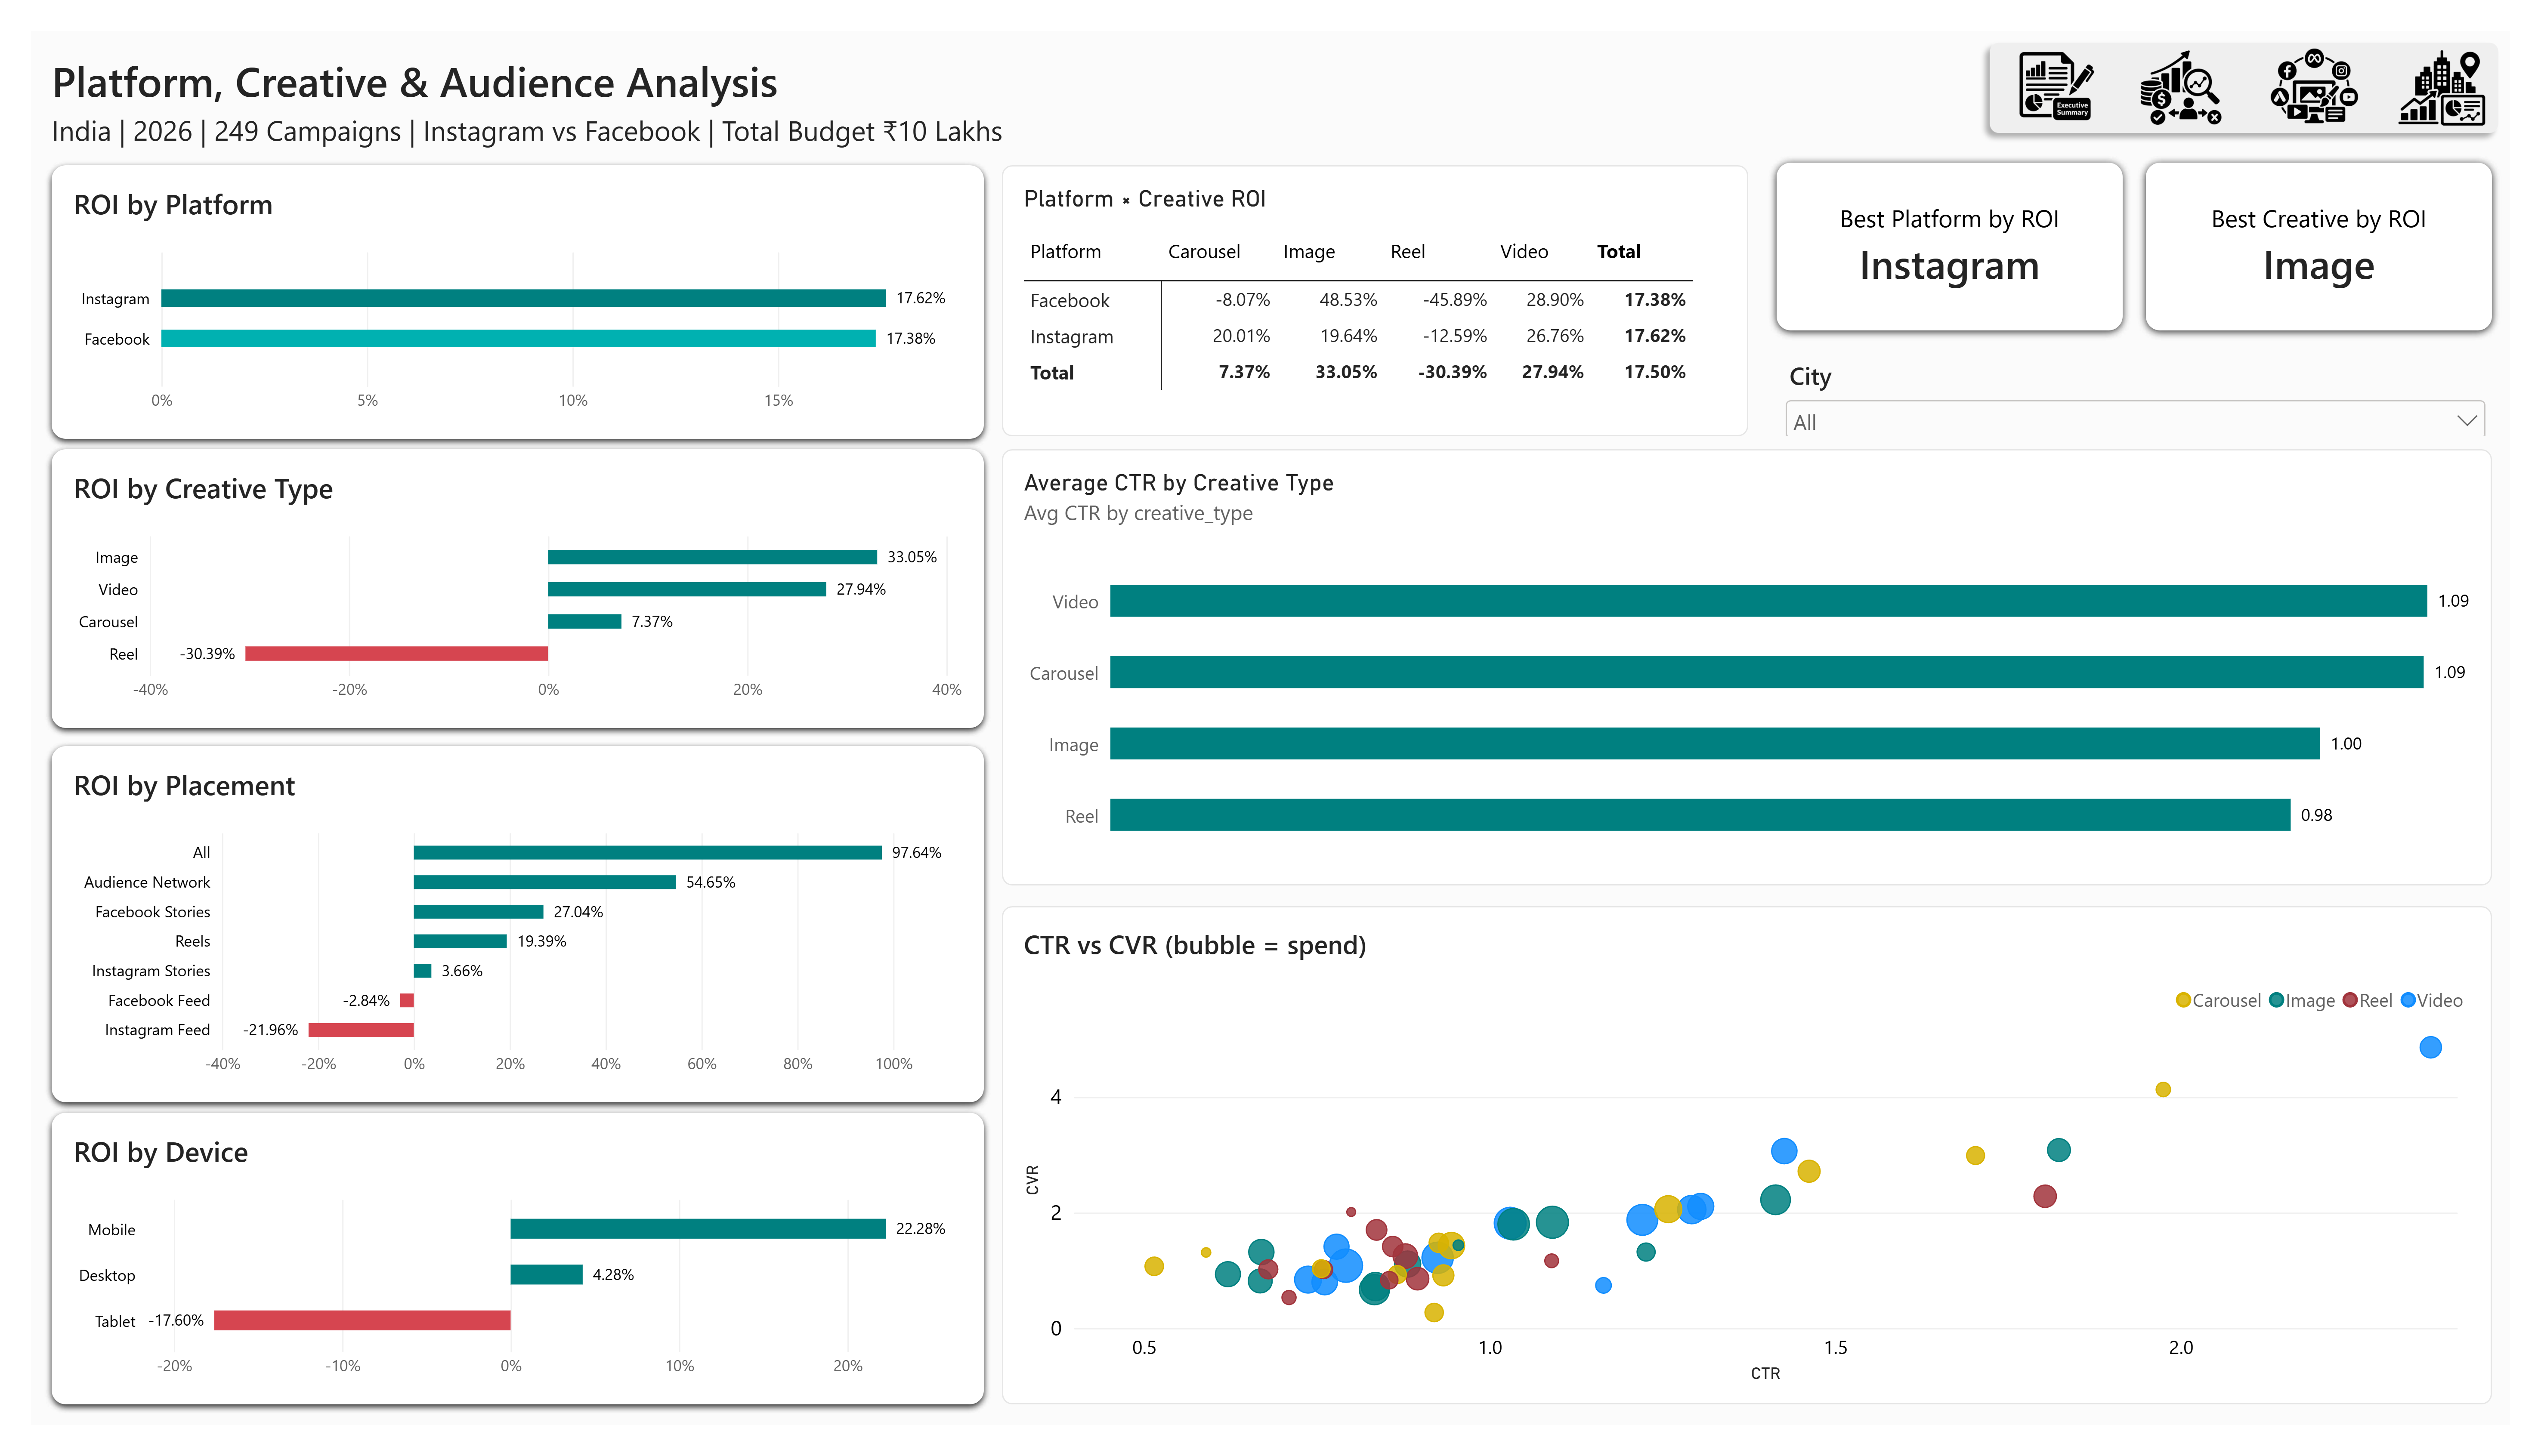

What the dashboard file says about the page in this screenshot:
{"tool":"powerbi","page":{"name":"Platform & Creative","canvas":[1920,1080],"ordinal":2},"visuals":[{"type":"textbox","box":[16,16,1062,45],"z":0},{"type":"clusteredBarChart","title":"ROI by Platform","fields":{"Category":["MetaAds.platform"],"Y":["MetaAds.Overall ROI %"]},"box":[16,104,722,212],"z":1000},{"type":"textbox","box":[16,62,822,40],"z":2000},{"type":"scatterChart","title":"CTR vs CVR (bubble = spend)","fields":{"Category":["MetaAds.campaign_name"],"Series":["MetaAds.creative_type"],"Size":["MetaAds.Total Spend"],"X":["MetaAds.Avg CTR"],"Y":["MetaAds.Avg CVR"]},"box":[752,678,1154,386],"z":3000},{"type":"clusteredBarChart","title":"ROI by Creative Type","fields":{"Category":["MetaAds.creative_type"],"Y":["MetaAds.Overall ROI %"]},"box":[16,324,722,216],"z":4000},{"type":"clusteredBarChart","title":"ROI by Placement","fields":{"Category":["MetaAds.placement"],"Y":["MetaAds.Overall ROI %"]},"box":[16,554,722,276],"z":5000},{"type":"clusteredBarChart","title":"ROI by Device","fields":{"Category":["MetaAds.device"],"Y":["MetaAds.Overall ROI %"]},"box":[16,838,722,226],"z":6000},{"type":"pivotTable","title":"Platform × Creative ROI","fields":{"Columns":["MetaAds.creative_type"],"Rows":["MetaAds.platform"],"Values":["MetaAds.Overall ROI %"]},"box":[752,104,577.9,209.8],"z":7000},{"type":"cardVisual","fields":{"Data":["MetaAds.Best Platform by ROI"]},"box":[1352,102,268,130],"z":8000},{"type":"cardVisual","fields":{"Data":["MetaAds.Best Creative by ROI"]},"box":[1638,102,268,130],"z":9000},{"type":"clusteredBarChart","title":"Average CTR by Creative Type","fields":{"Category":["MetaAds.creative_type"],"Y":["MetaAds.Avg CTR"]},"box":[752,324,1154,338],"z":10000},{"type":"slicer","fields":{"Values":["MetaAds.region"]},"box":[1354,254,552,60],"z":11000},{"type":"shape","box":[1508,0,412,88],"z":12000},{"type":"image","box":[1830,7,75,75],"z":13000},{"type":"image","box":[1731,7,75,75],"z":14000},{"type":"image","box":[1530,7,75,75],"z":15000},{"type":"image","box":[1627,7,75,75],"z":16000}]}

Visuals, with their boxes in screenshot pixels (x1, y1, x2, y2), scaled from the page's 1920x1080 canvas onto the 2541x1456 screenshot:
textbox: select_region(21, 22, 1427, 82)
"ROI by Platform" clusteredBarChart: select_region(21, 140, 977, 426)
textbox: select_region(21, 83, 1109, 138)
"CTR vs CVR (bubble = spend)" scatterChart: select_region(995, 914, 2522, 1434)
"ROI by Creative Type" clusteredBarChart: select_region(21, 437, 977, 728)
"ROI by Placement" clusteredBarChart: select_region(21, 747, 977, 1119)
"ROI by Device" clusteredBarChart: select_region(21, 1130, 977, 1434)
"Platform × Creative ROI" pivotTable: select_region(995, 140, 1760, 423)
cardVisual - MetaAds.Best Platform by ROI: select_region(1789, 138, 2144, 313)
cardVisual - MetaAds.Best Creative by ROI: select_region(2168, 138, 2522, 313)
"Average CTR by Creative Type" clusteredBarChart: select_region(995, 437, 2522, 892)
slicer - MetaAds.region: select_region(1792, 342, 2522, 423)
shape: select_region(1996, 0, 2541, 119)
image: select_region(2422, 9, 2521, 111)
image: select_region(2291, 9, 2390, 111)
image: select_region(2025, 9, 2124, 111)
image: select_region(2153, 9, 2253, 111)
